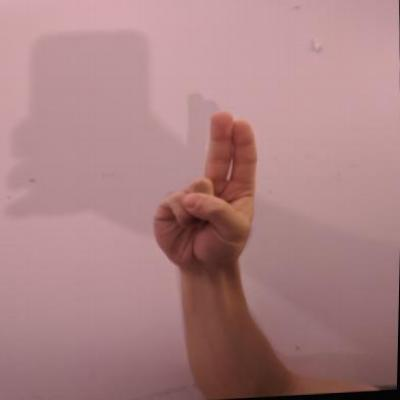hand: (146, 107, 270, 276)
